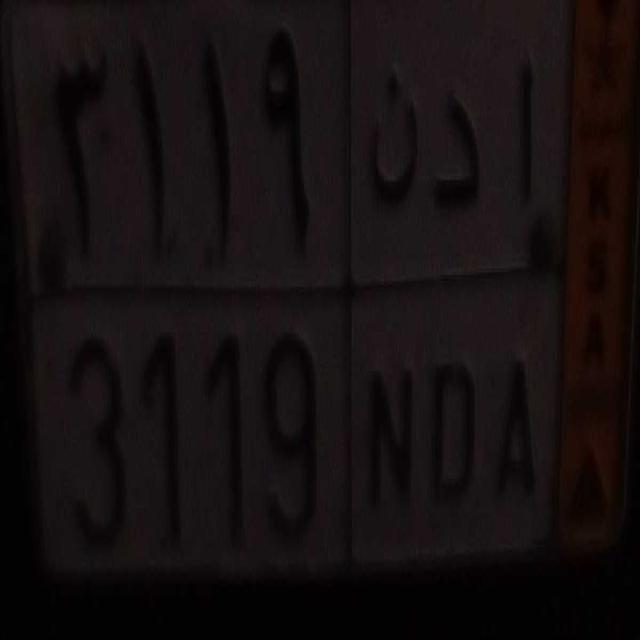license_plate: (37, 275, 556, 586)
